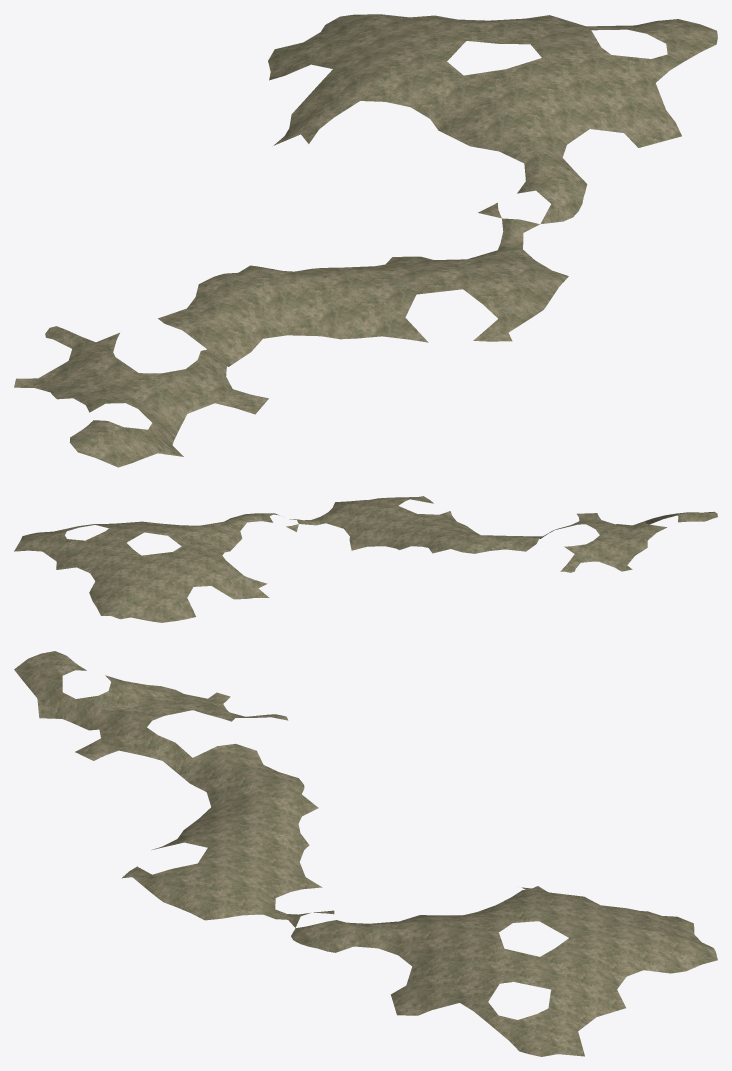
File: EKH_CAVERNS_PS_CA_MAIN_ROOF8474636.fbx
3 views of the same model, one above another, from view 1: azimuth 30°, elevation 25°; view 2: azimuth 150°, elevation 25°; view 3: azimuth 270°, elevation 25° (orthographic). The views are drawn at different scales.
Visible parts, largest first — view 1: EKH_CAVERNS_PS_CA_MAIN_ROOF8474636; view 2: EKH_CAVERNS_PS_CA_MAIN_ROOF8474636; view 3: EKH_CAVERNS_PS_CA_MAIN_ROOF8474636.
Boxes of the visible parts, box(x1,y1,x2,y2) form: EKH_CAVERNS_PS_CA_MAIN_ROOF8474636: box(14, 14, 717, 467); EKH_CAVERNS_PS_CA_MAIN_ROOF8474636: box(14, 496, 717, 622); EKH_CAVERNS_PS_CA_MAIN_ROOF8474636: box(14, 651, 717, 1056).
Bounding box in the file's own units: 906511 × 52860 × 724033.
1 material, 1 textured.
